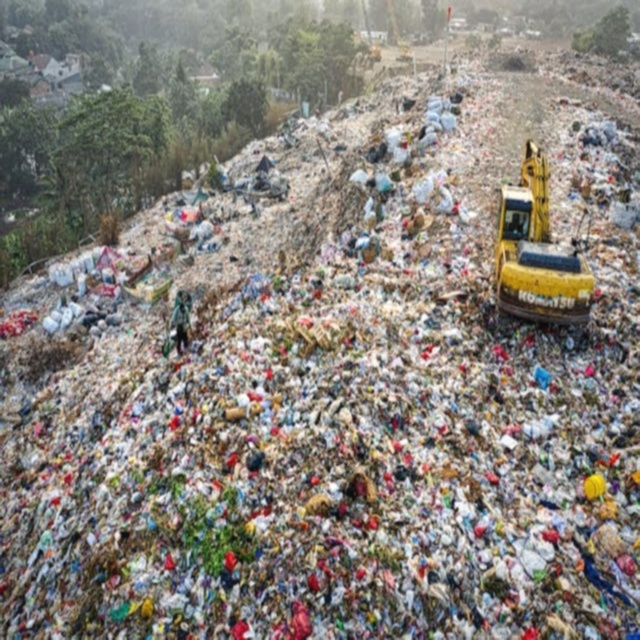contaminated_water: (13, 13, 627, 627)
foam_scum: (10, 0, 640, 609)
turbid_water: (0, 0, 640, 640)
